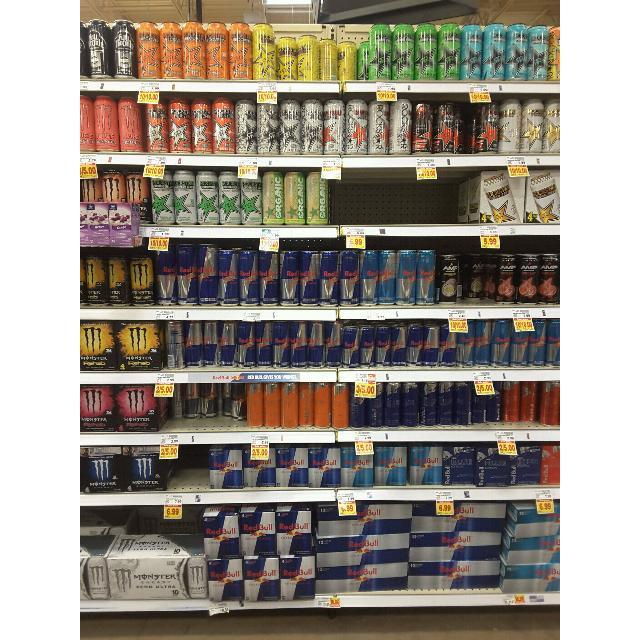empty: (331, 168, 459, 224), (178, 444, 210, 492)
front: (166, 422, 246, 432), (472, 424, 540, 428)
